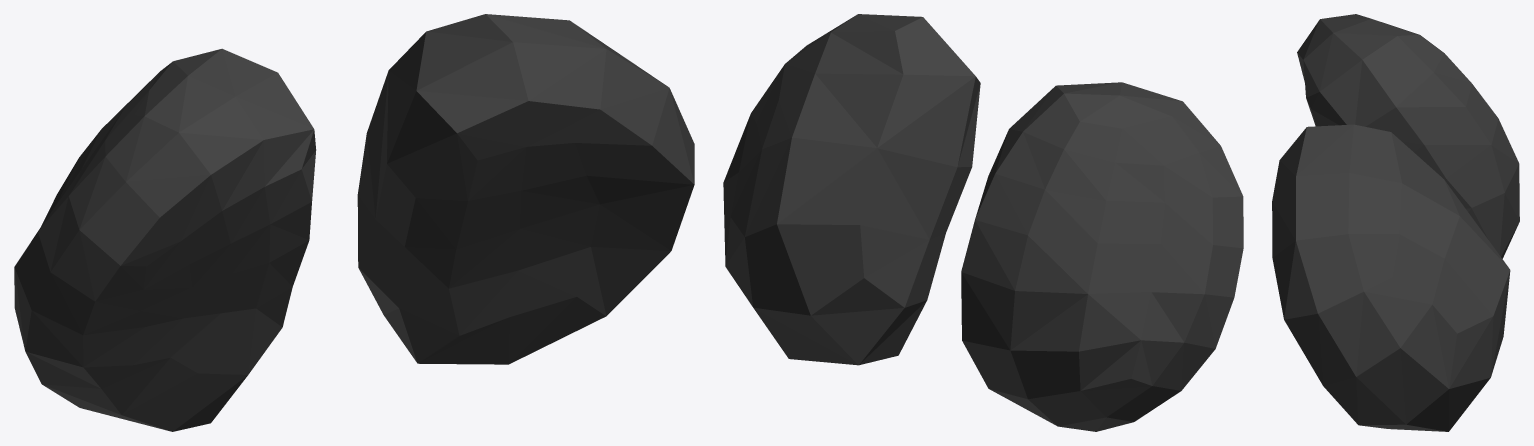
The model's file is HL_Sesamoids_L.glb.
The picture shows the model from 3 angles, left to right: view 1: azimuth 30°, elevation 25°; view 2: azimuth 150°, elevation 25°; view 3: azimuth 270°, elevation 25°; orthographic projection. The views are drawn at different scales.
Parts seen in each view (by area): view 1: HL_Sesamoids_L; view 2: HL_Sesamoids_L; view 3: HL_Sesamoids_L.
Boxes of the visible parts, x1,y1,x2,y2 form: HL_Sesamoids_L: (14,14,694,431); HL_Sesamoids_L: (723,14,1243,431); HL_Sesamoids_L: (1272,14,1519,431).
Bounding box in the file's own units: 0.0618 × 0.0368 × 0.0281.
1 material, 1 textured.
